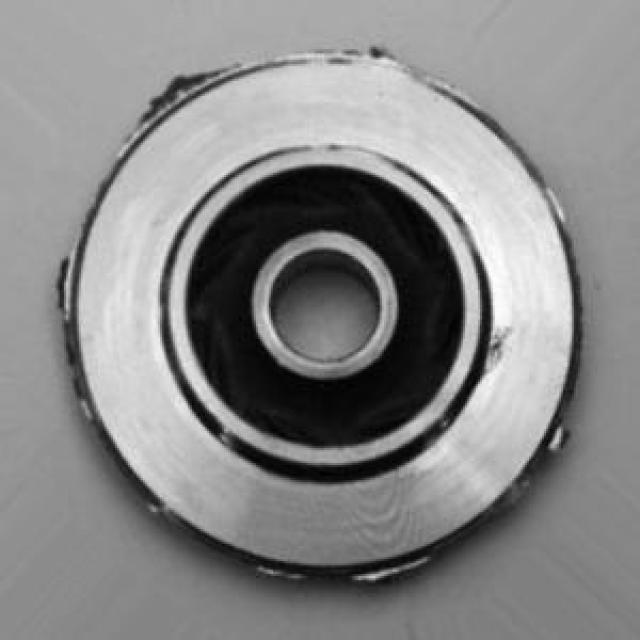Defect: (137, 79, 229, 111)
